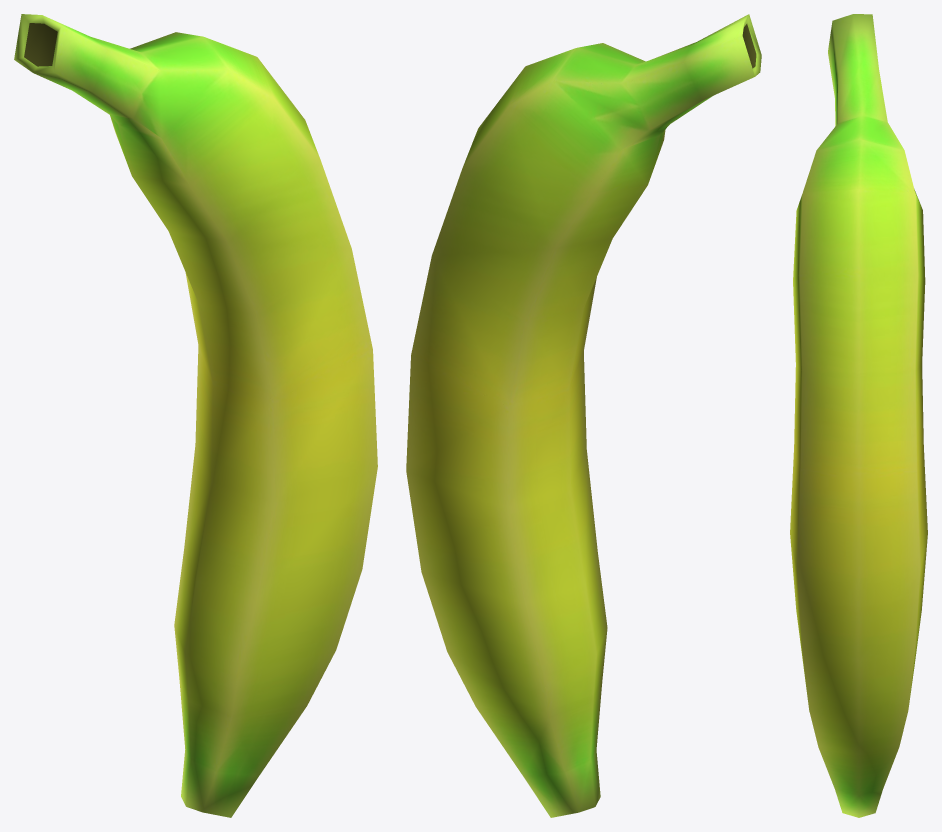
The model's file is banana.fbx.
3 views of the same model, side by side, from view 1: azimuth 30°, elevation 25°; view 2: azimuth 150°, elevation 25°; view 3: azimuth 270°, elevation 25° (orthographic). The views are drawn at different scales.
Visible parts, largest first — view 1: Cube.023; view 2: Cube.023; view 3: Cube.023.
Boxes of the visible parts, x1,y1,x2,y2 form: Cube.023: (14,14,377,817); Cube.023: (406,14,761,817); Cube.023: (790,14,927,817).
Bounding box in the file's own units: 16.36 × 38.6 × 6.64.
